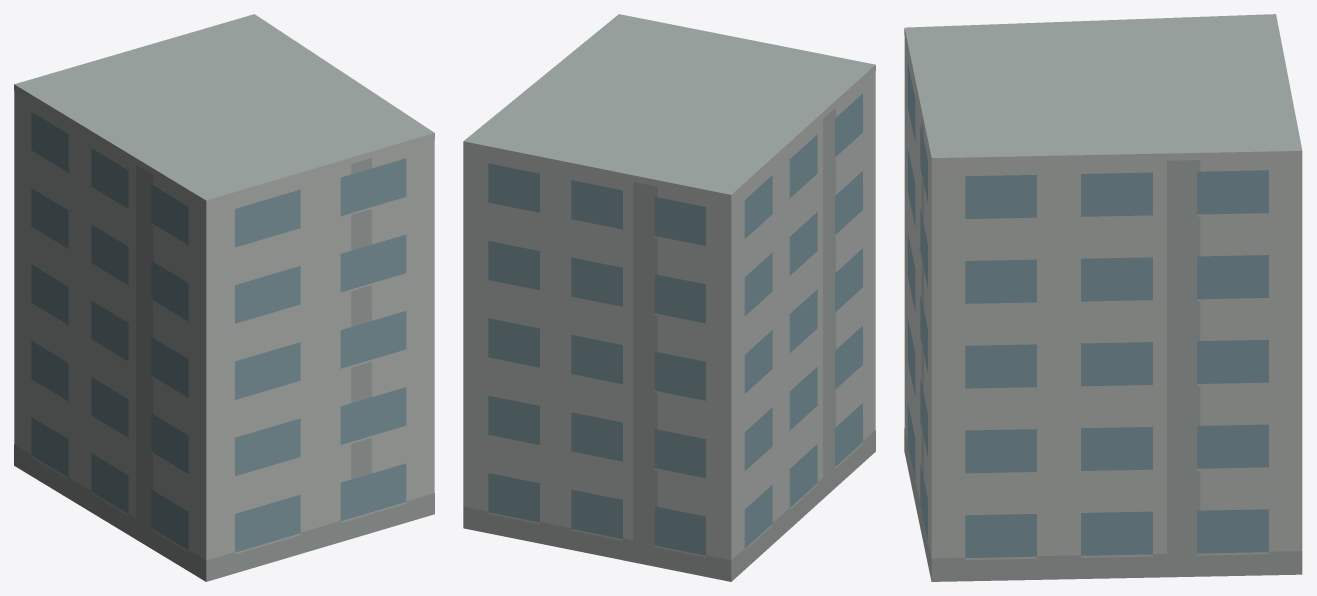
Rendered from survey-upis-32697551.glb.
3 views of the same model, side by side, from view 1: azimuth 30°, elevation 25°; view 2: azimuth 150°, elevation 25°; view 3: azimuth 270°, elevation 25° (orthographic). The views are drawn at different scales.
Parts seen in each view (by area): view 1: survey-upis-32697551.tmp; view 2: survey-upis-32697551.tmp; view 3: survey-upis-32697551.tmp.
Part boxes in pixels (x1,y1,x2,y2): survey-upis-32697551.tmp: [14, 14, 434, 581]; survey-upis-32697551.tmp: [463, 14, 875, 581]; survey-upis-32697551.tmp: [904, 14, 1302, 581].
Size of the model in its own units: 10.44 by 14.3 by 12.18.
